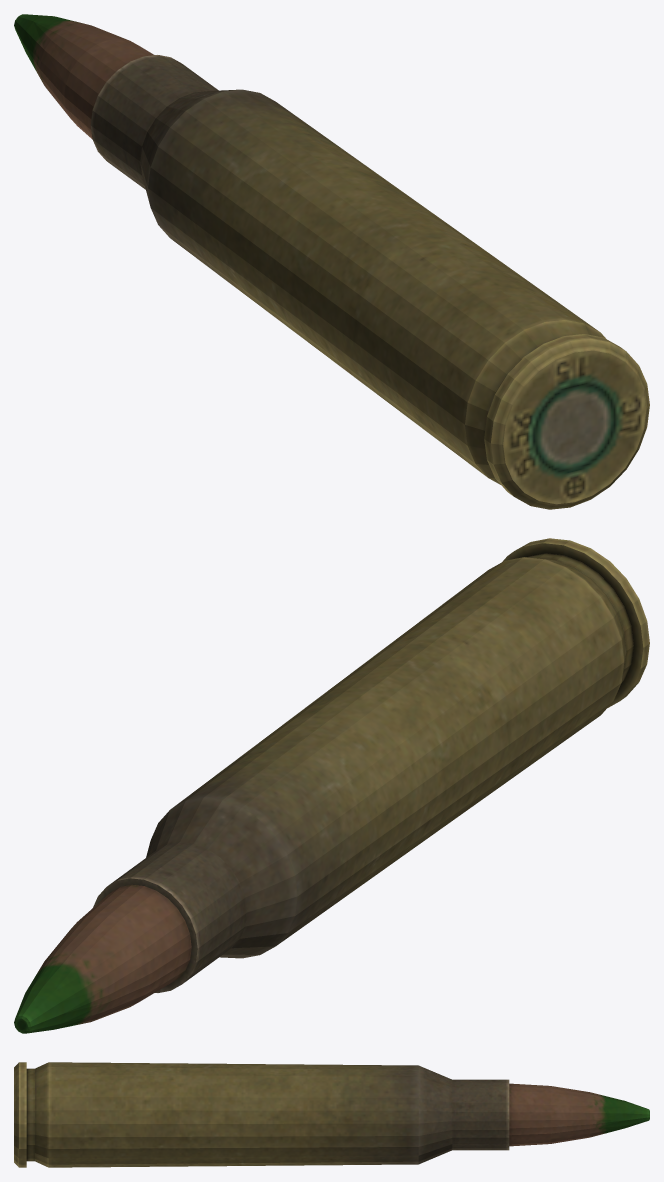
3 views of the same model, one above another, from view 1: azimuth 30°, elevation 25°; view 2: azimuth 150°, elevation 25°; view 3: azimuth 270°, elevation 25° (orthographic). The views are drawn at different scales.
Visible parts, largest first — view 1: TW_54527a984bdc2d4e668b4567_PZ_Import; view 2: TW_54527a984bdc2d4e668b4567_PZ_Import; view 3: TW_54527a984bdc2d4e668b4567_PZ_Import.
Boxes of the visible parts, x1,y1,x2,y2 form: TW_54527a984bdc2d4e668b4567_PZ_Import: (14,14,649,509); TW_54527a984bdc2d4e668b4567_PZ_Import: (14,538,649,1033); TW_54527a984bdc2d4e668b4567_PZ_Import: (14,1062,649,1167).
Size of the model in its own units: 0.00552 by 0.0332 by 0.00552.
Materials: 1 (1 with a texture image).
